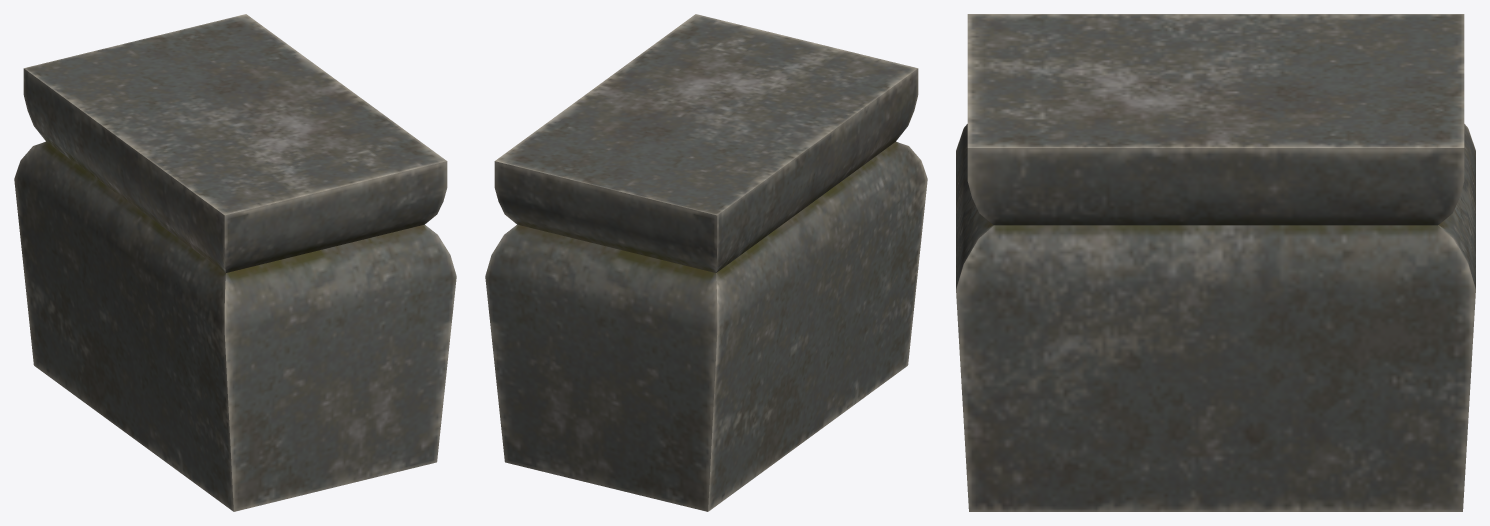
File: JT_Gy_Prp_StandStone.fbx
3 views of the same model, side by side, from view 1: azimuth 30°, elevation 25°; view 2: azimuth 150°, elevation 25°; view 3: azimuth 270°, elevation 25° (orthographic). The views are drawn at different scales.
Visible parts, largest first — view 1: JT_Gy_Prp_StandStone, JT_Gy_Prp_StandStone_LOD0; view 2: JT_Gy_Prp_StandStone_LOD0, JT_Gy_Prp_StandStone; view 3: JT_Gy_Prp_StandStone, JT_Gy_Prp_StandStone_LOD0.
Boxes of the visible parts, x1,y1,x2,y2 form: JT_Gy_Prp_StandStone: (14,14,456,511); JT_Gy_Prp_StandStone_LOD0: (14,70,446,510); JT_Gy_Prp_StandStone_LOD0: (485,14,927,511); JT_Gy_Prp_StandStone: (495,68,927,507); JT_Gy_Prp_StandStone: (956,14,1475,511); JT_Gy_Prp_StandStone_LOD0: (956,14,1475,511).
Size of what is drawn, in the model's own units: 0.3339 by 0.4115 by 0.5246.
